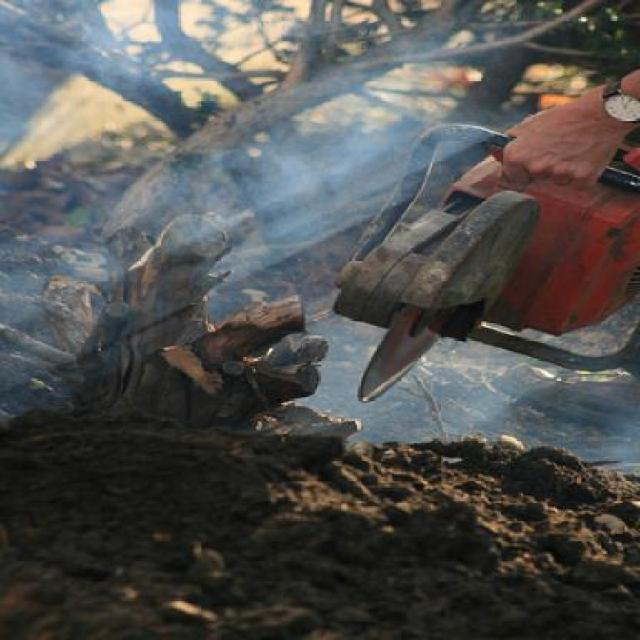Chainsaw: (329, 118, 636, 404)
